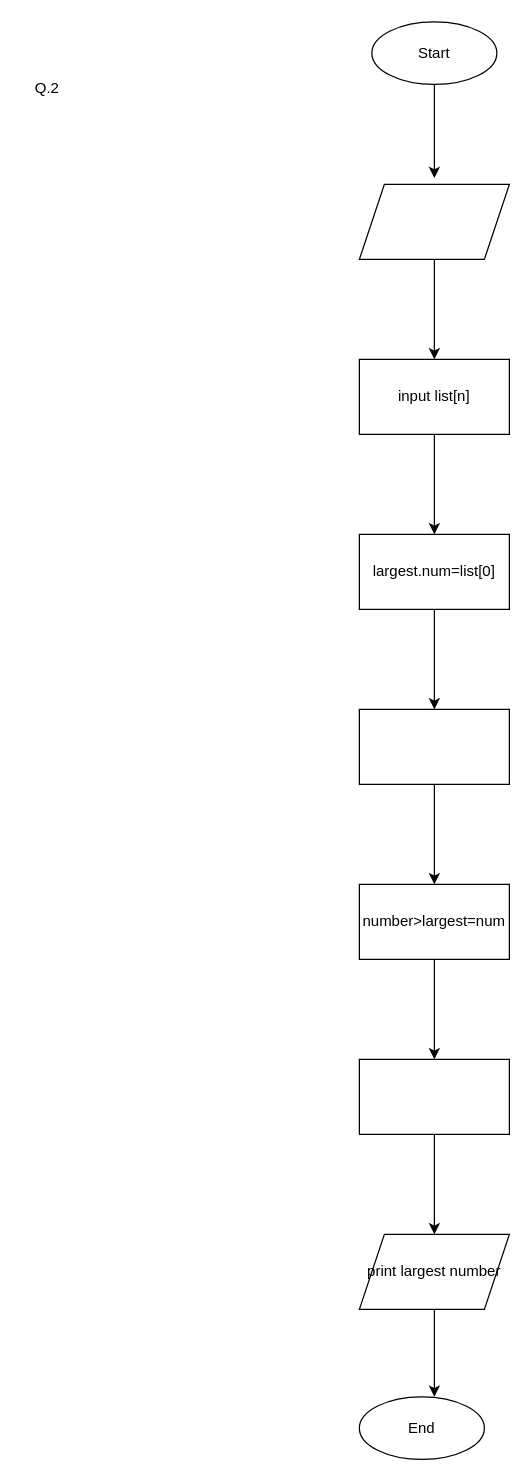
The diagram is 531 pixels wide and 1481 high, and some of its shapes have lost their labels. Each missing label, with the centre of its shape:
for each number to list: the point at 433,746
int n: the point at 433,221
largest = number: the point at 433,1096
